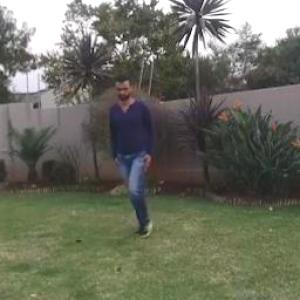follow: (112, 68, 156, 220)
